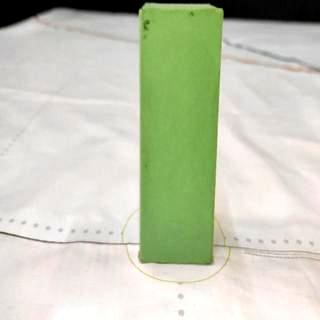greenbox: (134, 0, 220, 270)
